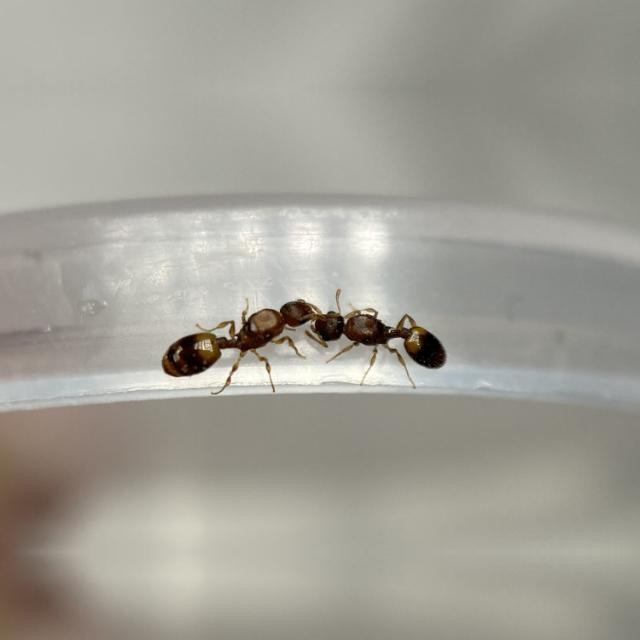Temnothorax: (152, 284, 324, 396), (311, 292, 461, 380)
